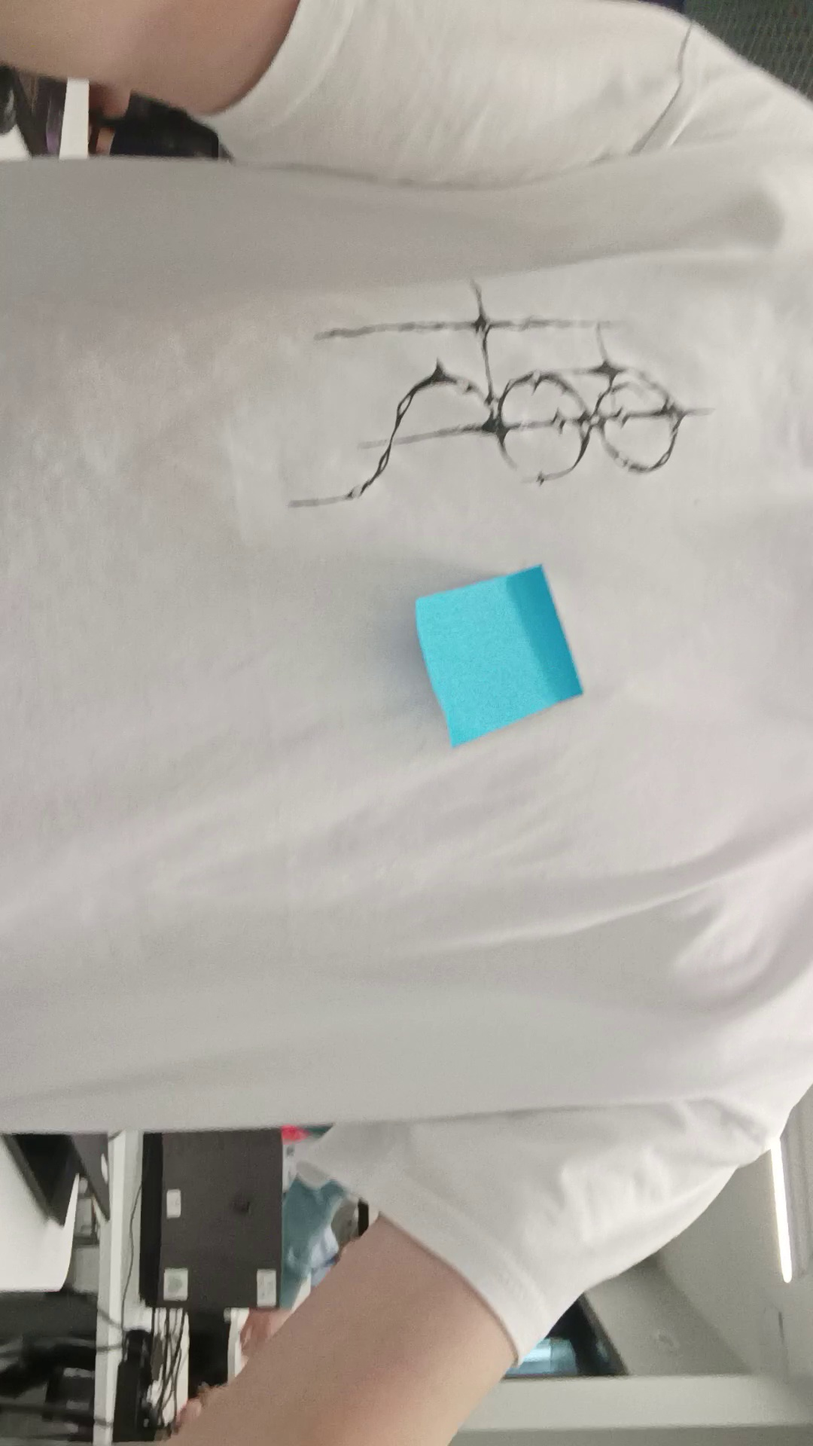marker: (505, 567, 581, 701), (449, 715, 478, 743)
